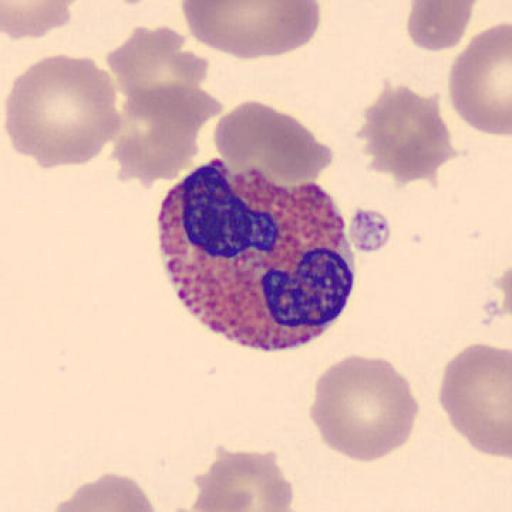RBC: (106, 41, 225, 189), (4, 51, 123, 170), (308, 354, 420, 464), (106, 23, 211, 129), (213, 99, 332, 190), (112, 81, 211, 188), (357, 82, 454, 186), (438, 341, 512, 459), (181, 0, 322, 61), (448, 21, 512, 137), (190, 447, 294, 512), (46, 471, 160, 512), (405, 0, 478, 52), (2, 0, 78, 41), (190, 484, 258, 512)
WBC: (0, 217, 230, 512), (156, 158, 357, 353)
